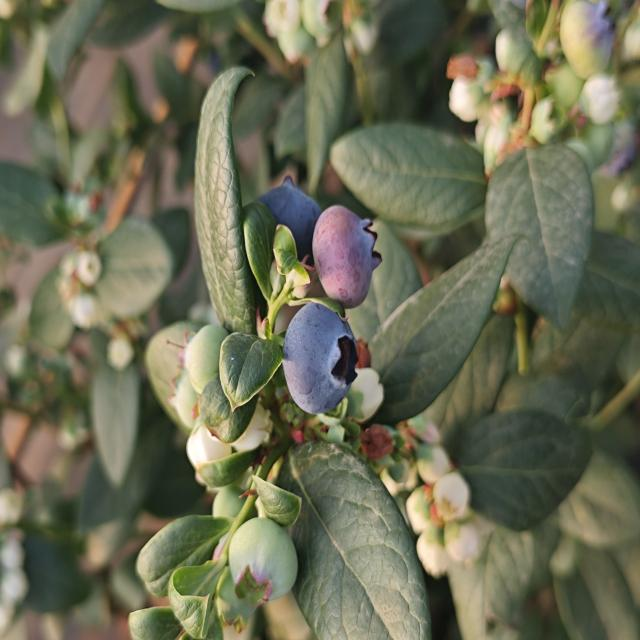ripe: (279, 299, 361, 418), (254, 174, 322, 269)
